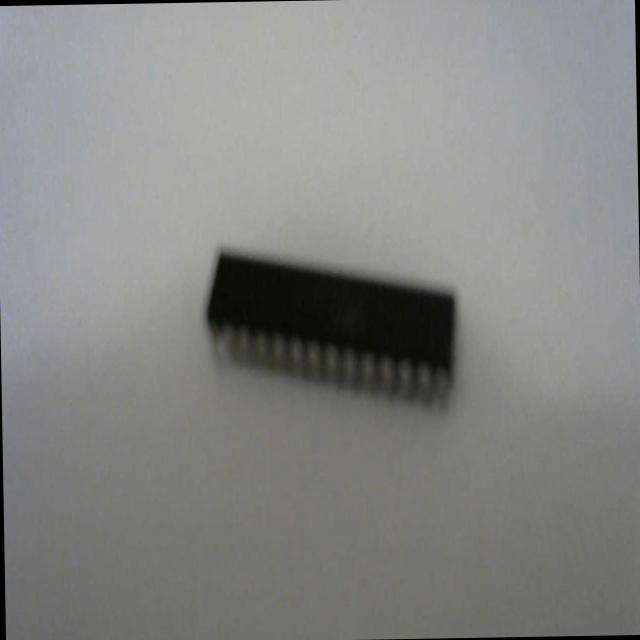atmega: (202, 238, 460, 414)
